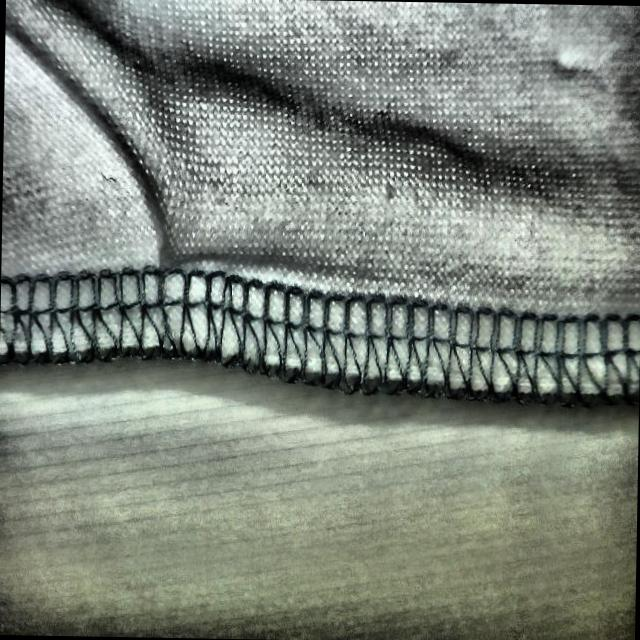gray stitch: (98, 129, 310, 419)
